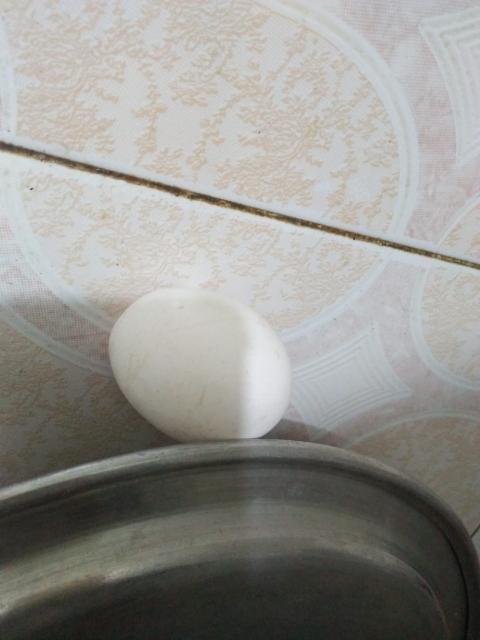Sano: (112, 290, 293, 441)
